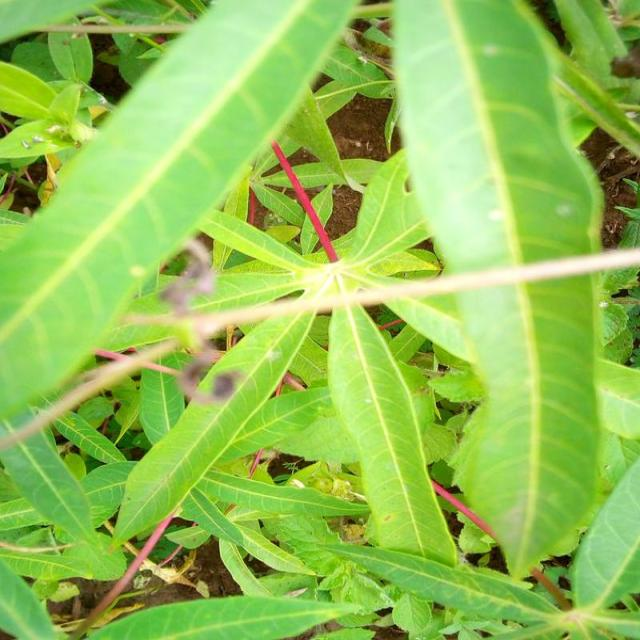cassava leaf: (2, 0, 636, 636), (0, 0, 359, 423), (390, 0, 606, 579), (326, 291, 458, 568)
